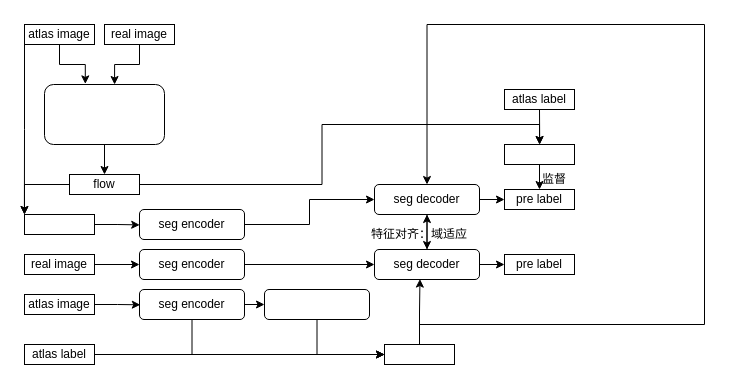
Image size: 731x382. Some labels were removed from this diagram. Each missing label, with the centre of its shape:
reg: point 104,114
syn image: point 59,224
syn label: point 539,154
token: point 419,354
一些操作: point 317,304
